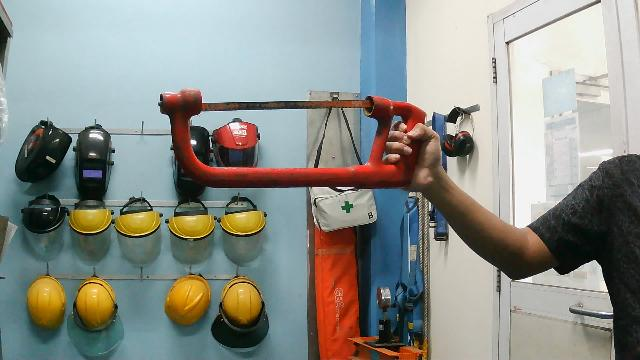gergaji_besi: (154, 83, 440, 194)
